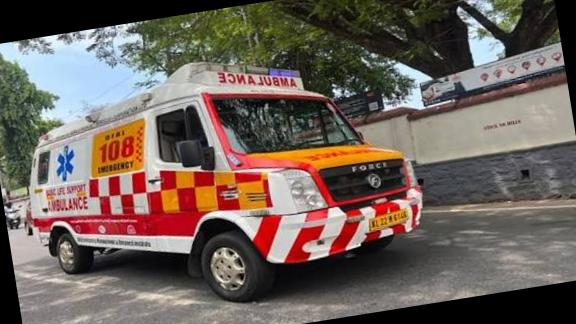ambulance: (14, 28, 433, 324)
